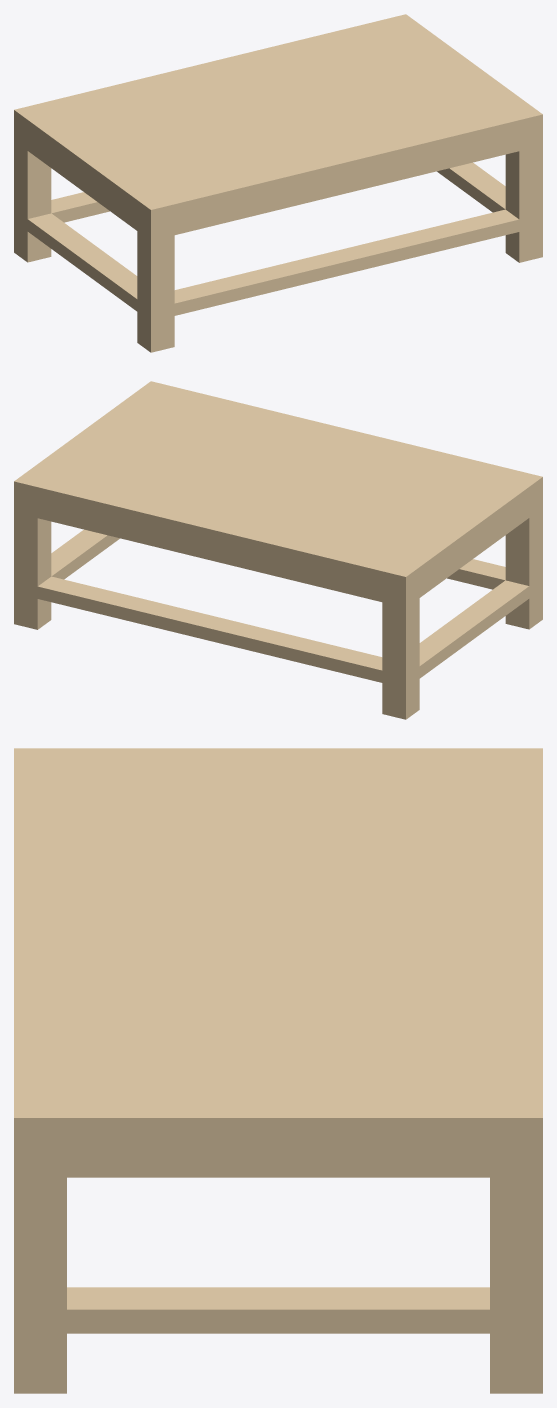
File: tableCoffee.glb
3 renders of one model, top to bottom at view 1: azimuth 30°, elevation 25°; view 2: azimuth 150°, elevation 25°; view 3: azimuth 270°, elevation 25°, orthographic. The views are drawn at different scales.
Visible parts, largest first — view 1: tableCoffee; view 2: tableCoffee; view 3: tableCoffee.
Boxes of the visible parts, x1,y1,x2,y2 form: tableCoffee: [14, 14, 542, 352]; tableCoffee: [14, 381, 542, 719]; tableCoffee: [14, 748, 542, 1393].
Bounding box in the file's own units: 6.61 × 2.3 × 4.
